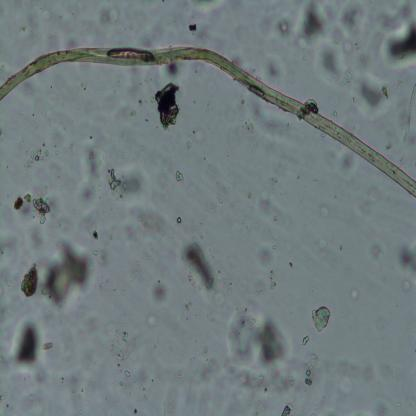Background material: (223, 304, 298, 389), (56, 128, 108, 240), (99, 307, 156, 394), (54, 310, 96, 411), (232, 86, 288, 160), (158, 346, 216, 412), (319, 349, 385, 401), (41, 241, 92, 308), (179, 237, 223, 297), (6, 316, 53, 372), (353, 70, 400, 124), (123, 198, 183, 236), (107, 63, 144, 122), (381, 19, 416, 71), (12, 191, 59, 228), (318, 41, 352, 89), (318, 144, 362, 180), (152, 82, 181, 135), (332, 0, 366, 43), (202, 161, 233, 208), (107, 166, 147, 202), (239, 187, 277, 222), (354, 179, 389, 212), (16, 7, 41, 53), (0, 233, 19, 290), (298, 2, 326, 40), (300, 334, 319, 388), (259, 50, 292, 81), (21, 140, 51, 172), (393, 238, 416, 278), (178, 120, 205, 151), (244, 271, 269, 304), (19, 260, 39, 300), (309, 303, 332, 334), (149, 278, 171, 307), (185, 3, 200, 38), (275, 15, 295, 40), (90, 247, 112, 268), (29, 230, 51, 251), (138, 306, 160, 327), (256, 247, 278, 268), (161, 62, 184, 82), (20, 77, 39, 101), (98, 6, 119, 27), (262, 258, 277, 287), (38, 5, 57, 27), (371, 240, 386, 265), (375, 399, 396, 416), (315, 236, 332, 253), (349, 286, 363, 302), (173, 166, 184, 183), (402, 276, 412, 294), (282, 400, 294, 415), (322, 202, 329, 220), (131, 266, 140, 280)
Microfibre: (0, 43, 416, 200)
